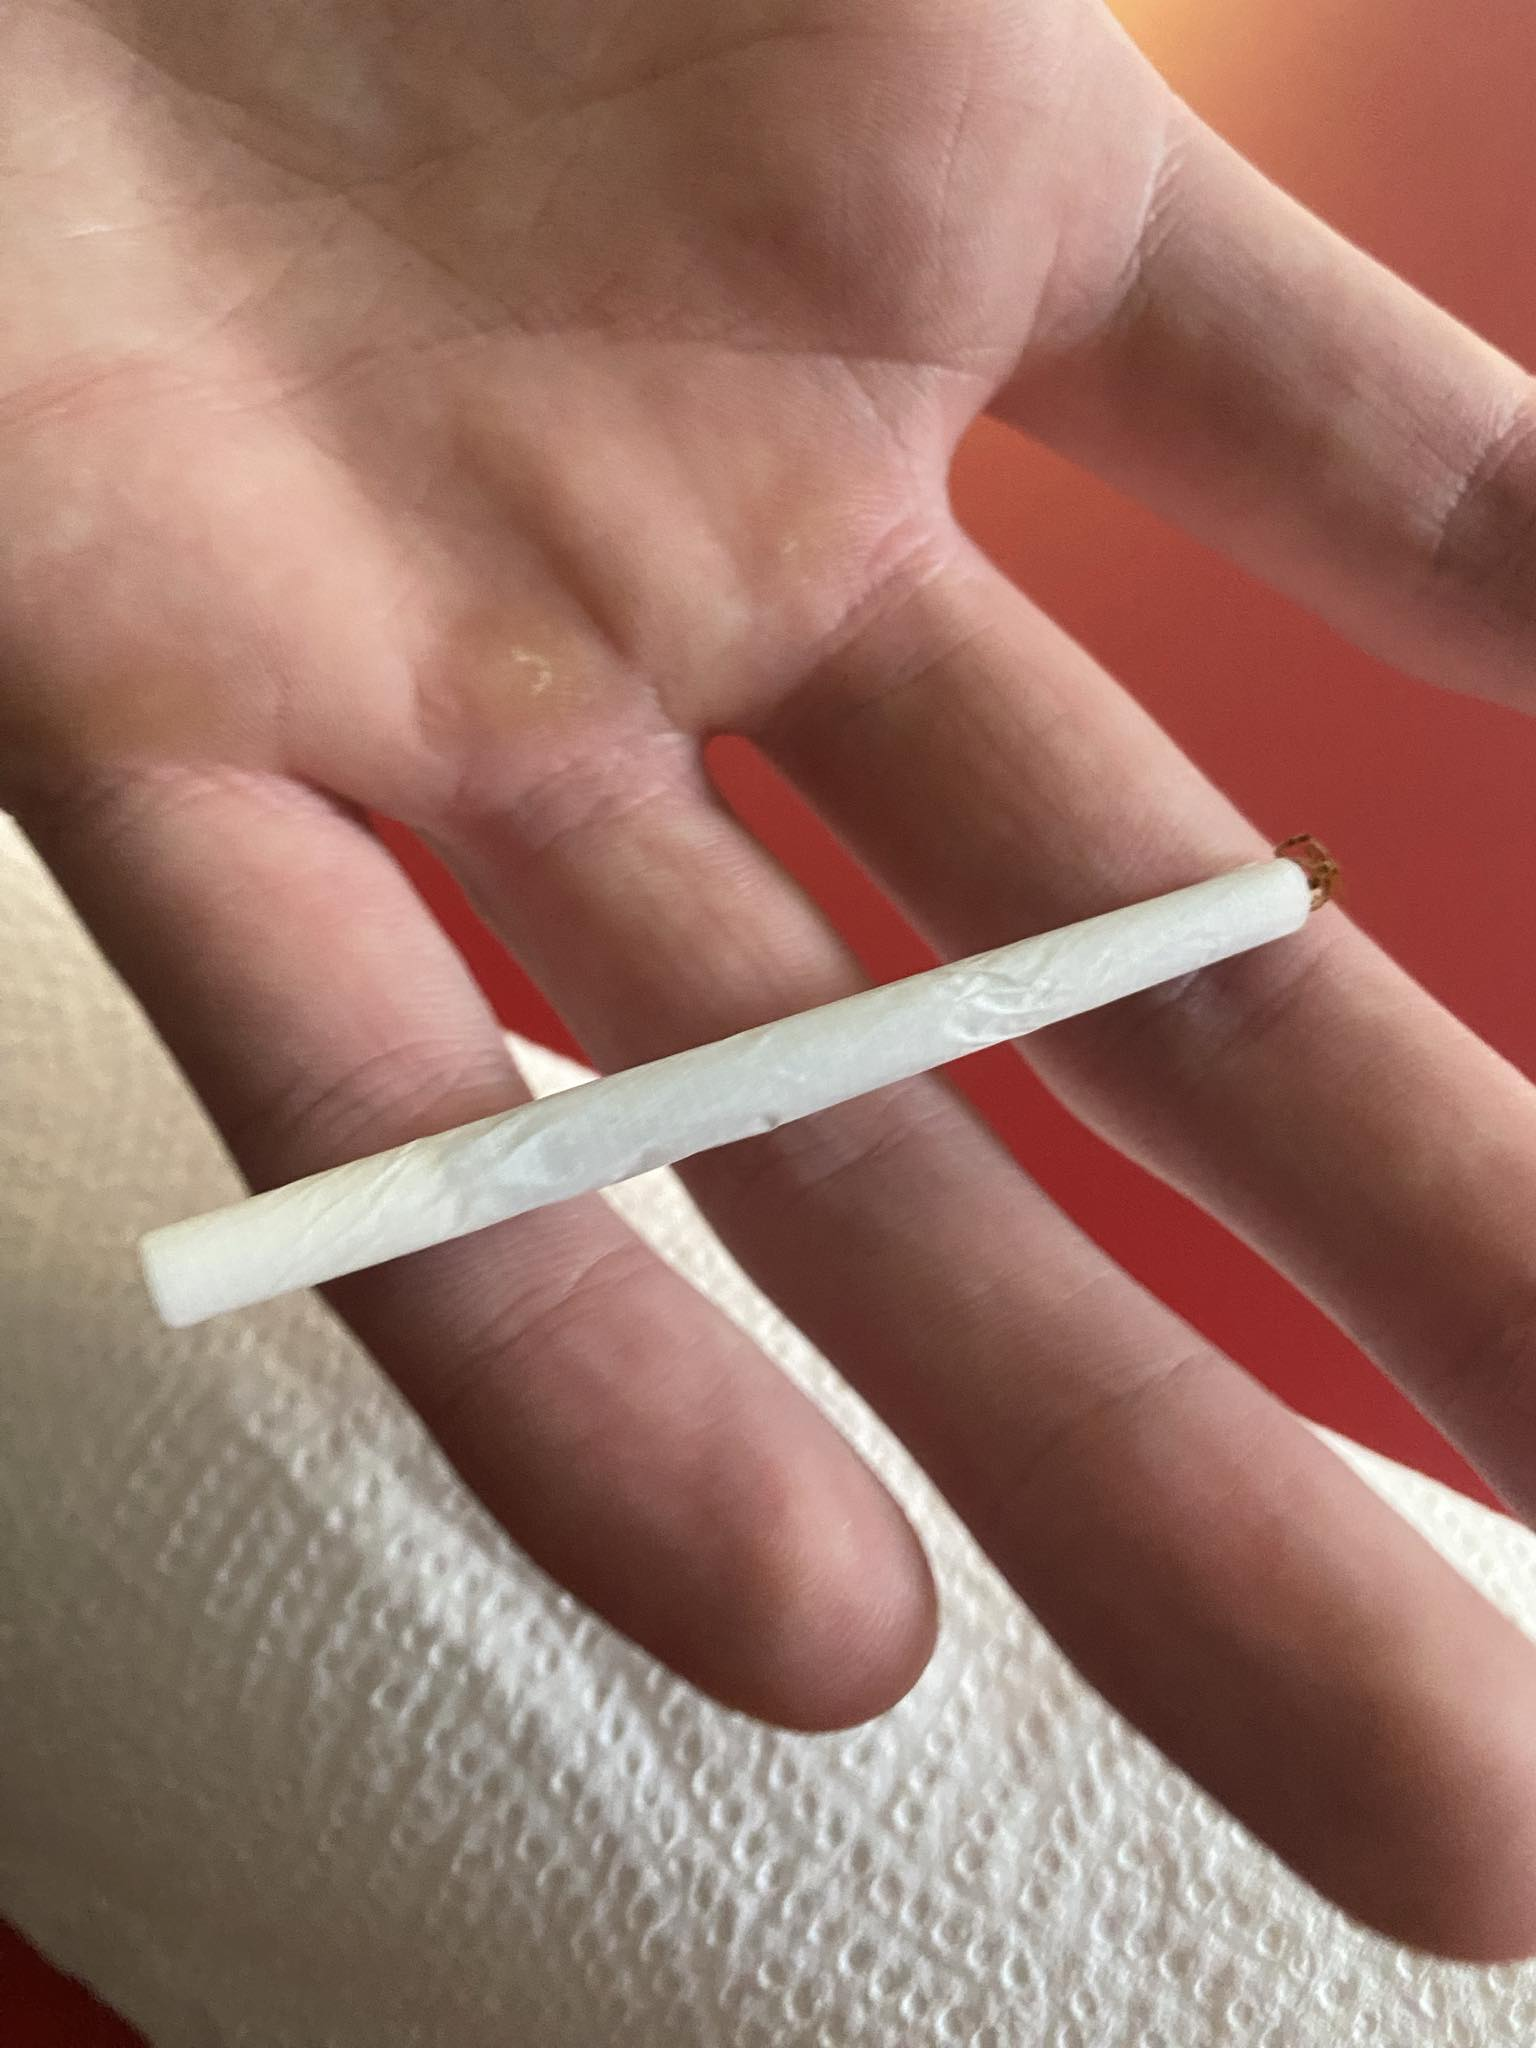Cigarette: (132, 835, 1339, 1329)
